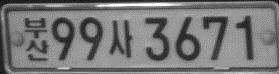1: (235, 15, 258, 59)
3: (144, 16, 169, 61)
6: (175, 16, 201, 60)
7: (202, 15, 228, 60)
9: (79, 16, 103, 61), (51, 16, 75, 60)
부산_V: (24, 17, 49, 60)
사: (109, 19, 133, 57)
